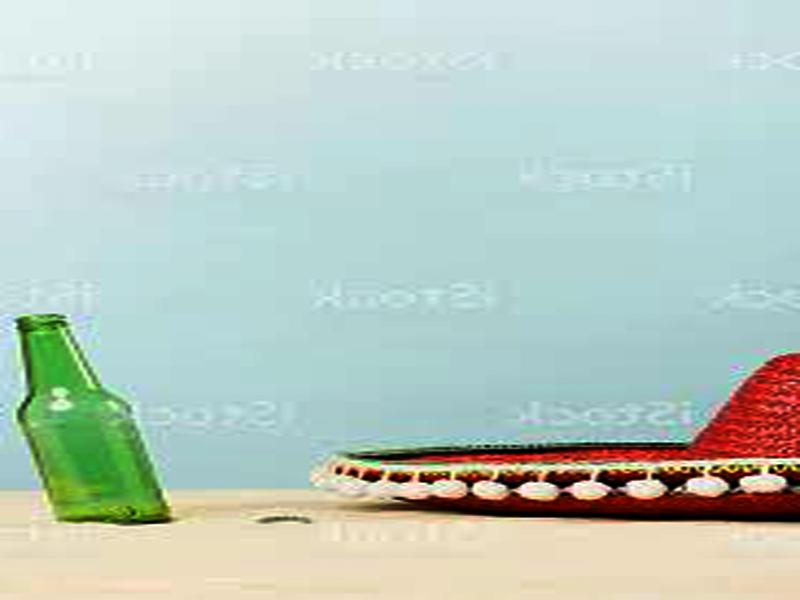Beer: (21, 312, 174, 528)
